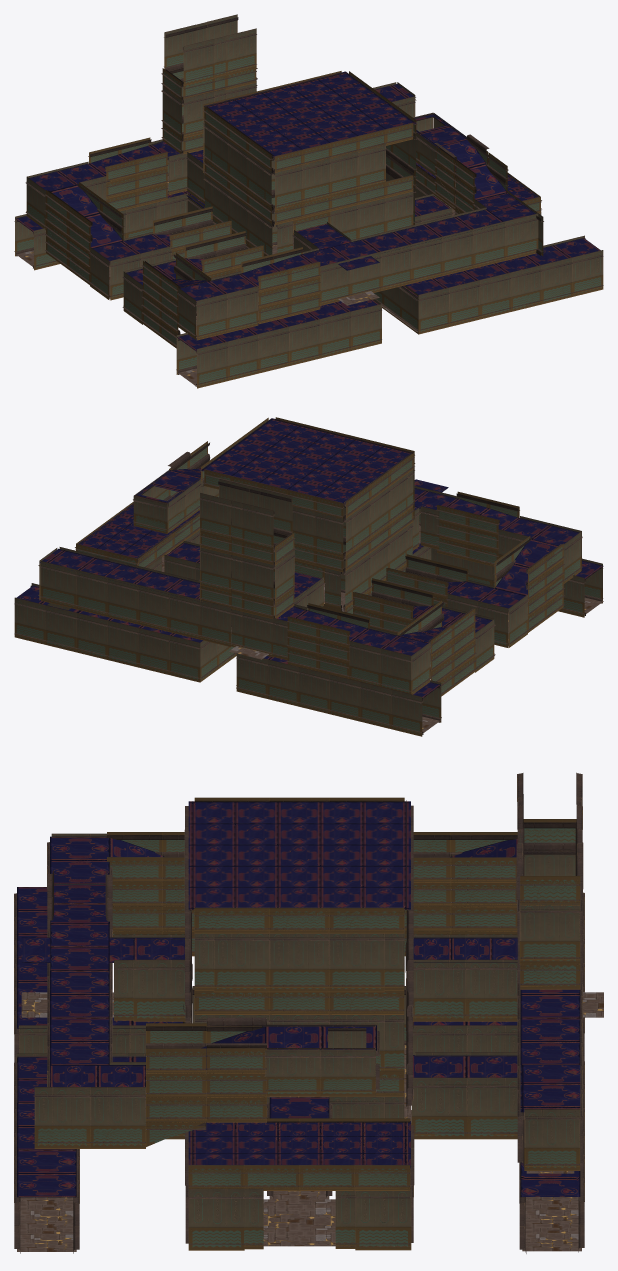
The model's file is pm-layout-floor-01.glb.
The picture shows the model from 3 angles, top to bottom: view 1: azimuth 30°, elevation 25°; view 2: azimuth 150°, elevation 25°; view 3: azimuth 270°, elevation 25°; orthographic projection. The views are drawn at different scales.
Visible parts, largest first — view 1: Layout_Floor01; view 2: Layout_Floor01; view 3: Layout_Floor01.
Boxes of the visible parts, x1,y1,x2,y2 form: Layout_Floor01: (14,14,603,388); Layout_Floor01: (14,417,603,736); Layout_Floor01: (14,772,603,1253).
Bounding box in the file's own units: 57.61 × 25.4 × 46.19.
Materials: 3 (3 with a texture image).
